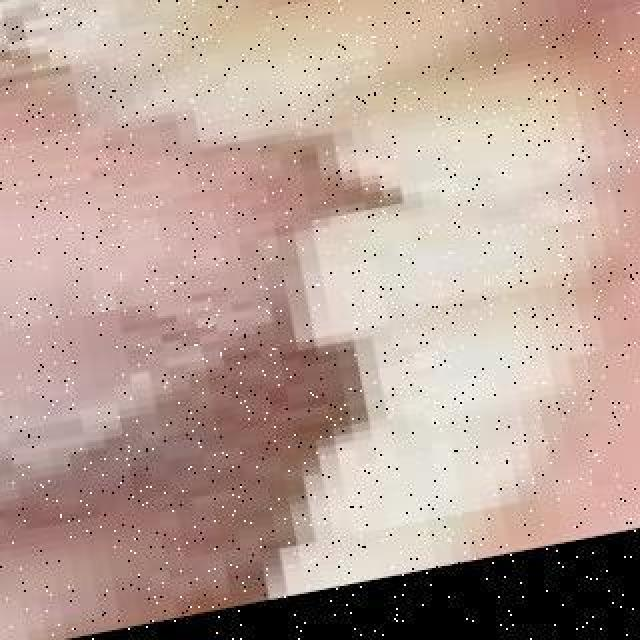maligned: (265, 198, 633, 322), (305, 86, 615, 196)
